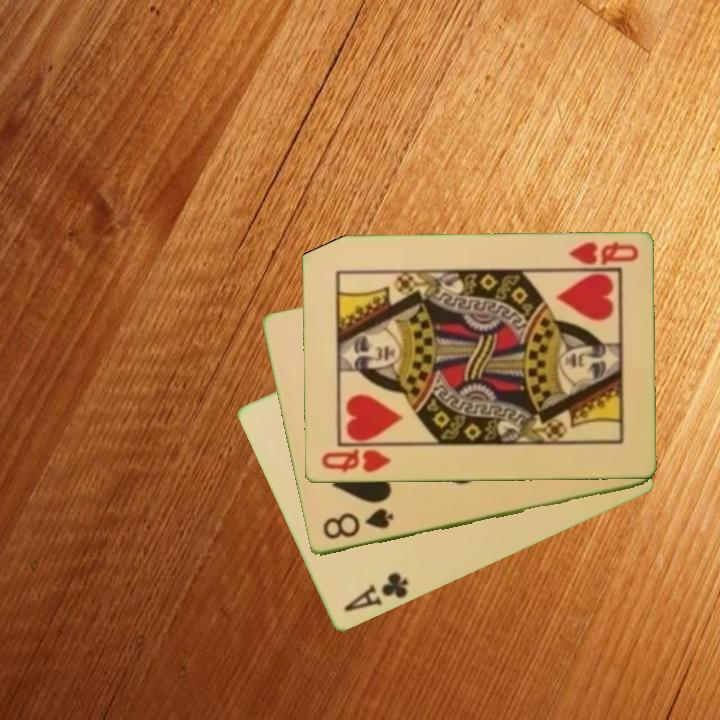8s: (319, 505, 396, 543)
Ac: (340, 569, 412, 615)
Qh: (564, 238, 641, 268), (317, 446, 393, 476)
